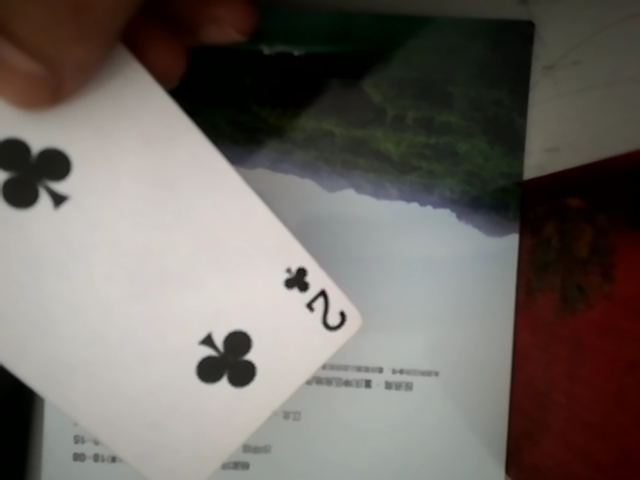mh 2: (3, 36, 358, 476)
